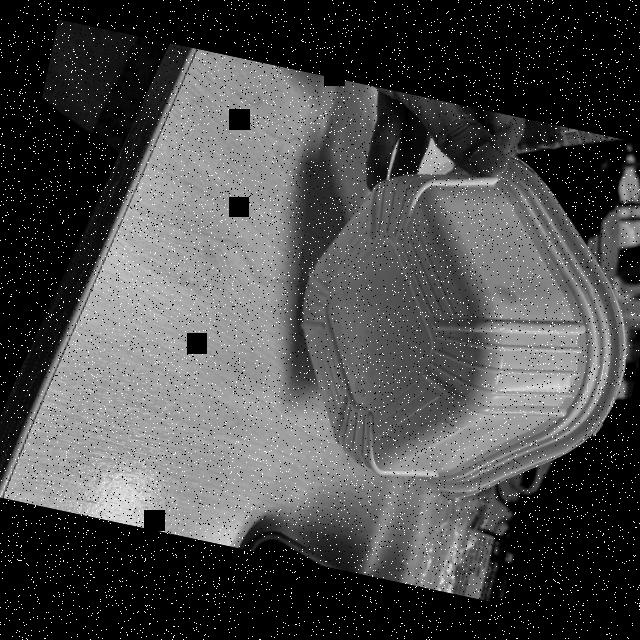plastic_box: (265, 114, 640, 533)
